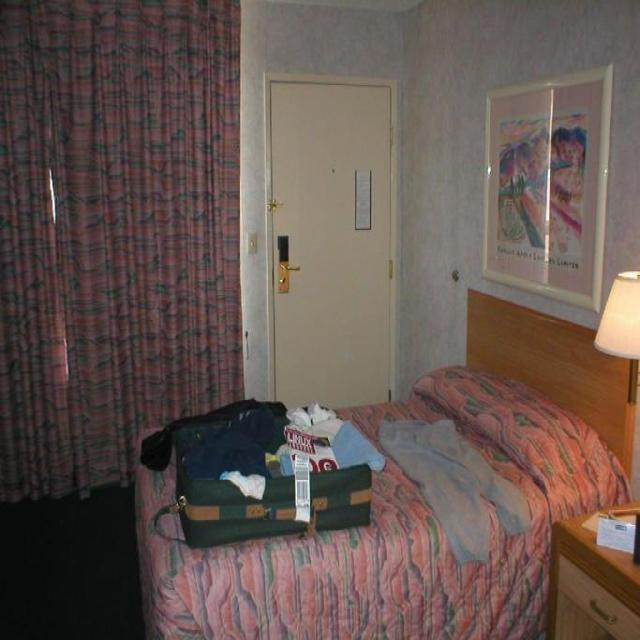bed: (134, 286, 638, 639)
cupboard: (547, 500, 639, 639)
curtains: (0, 0, 243, 504)
door: (266, 74, 392, 408)
pillows: (410, 362, 630, 522)
